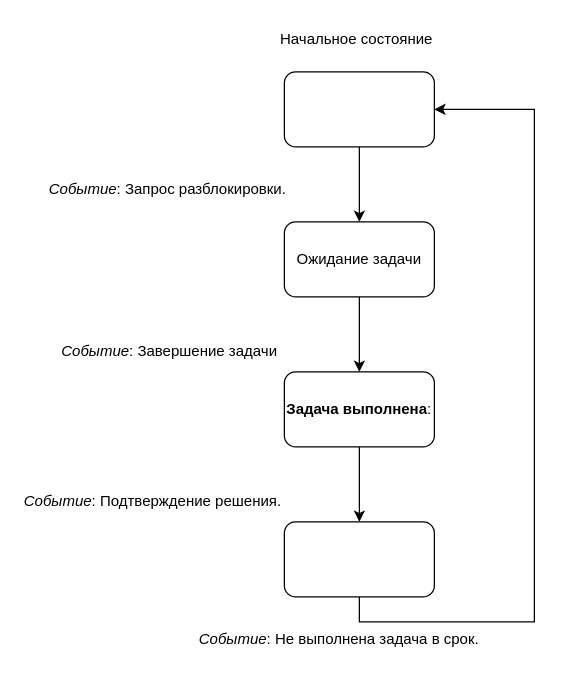
Some shapes in this 566 by 680 pixel diagram are drawn without their labels. The centre of each missing label's shape, as x and y in pixels:
Заблокировано: pixel 358 109
Разблокировано: pixel 358 559
